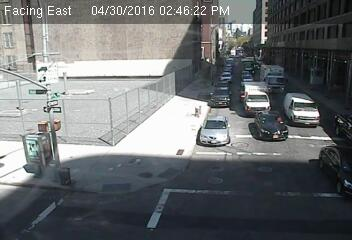neg: (13, 129, 58, 189), (206, 118, 233, 154), (36, 41, 61, 74), (91, 89, 116, 122), (33, 85, 56, 116), (147, 78, 170, 109), (117, 172, 136, 197), (306, 65, 323, 88), (270, 112, 286, 133), (302, 96, 316, 115), (257, 156, 270, 175), (190, 102, 198, 113)
